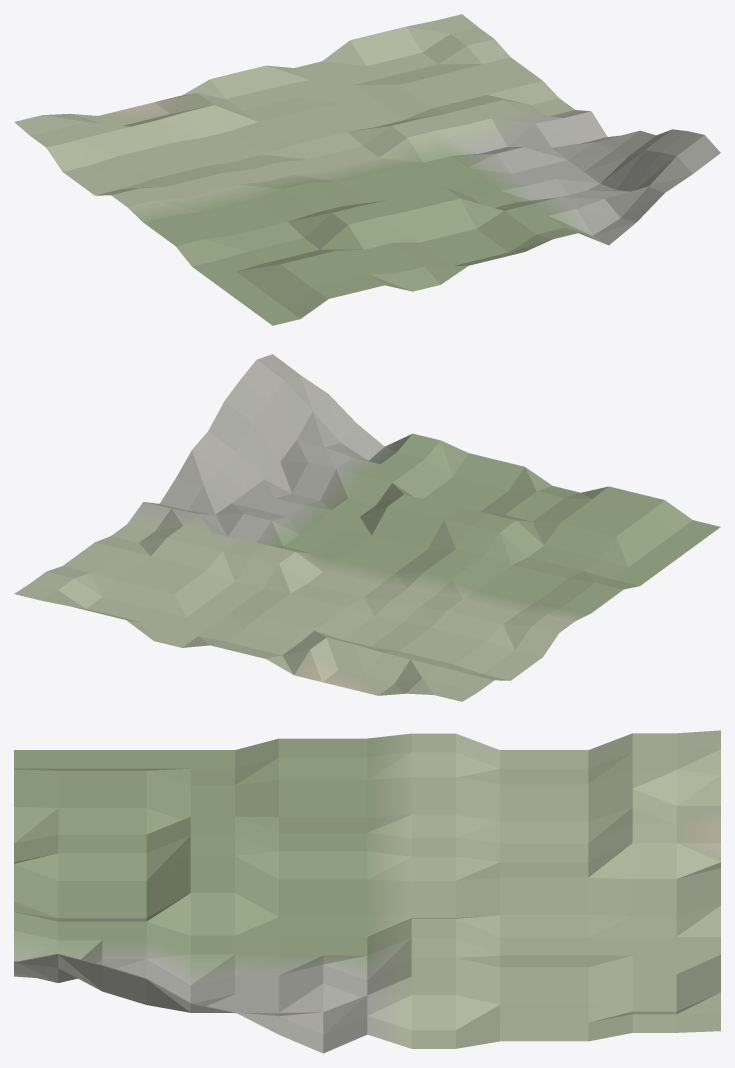
3 renders of one model, top to bottom at view 1: azimuth 30°, elevation 25°; view 2: azimuth 150°, elevation 25°; view 3: azimuth 270°, elevation 25°, orthographic. The views are drawn at different scales.
Size of the model in its own units: 32 by 5.33 by 32.
